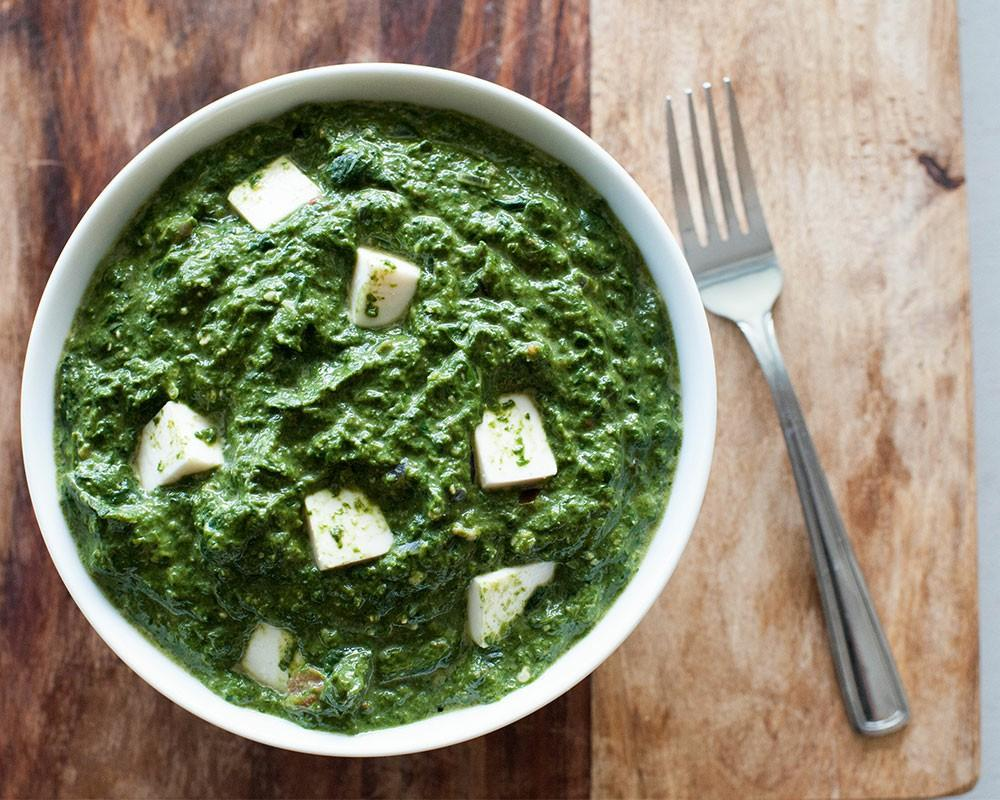PalakPaneer: (61, 102, 682, 726)
